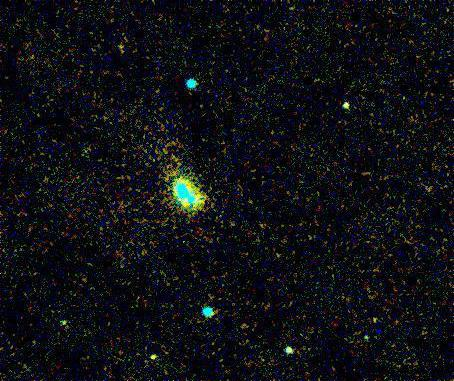star: (135, 345, 165, 375)
